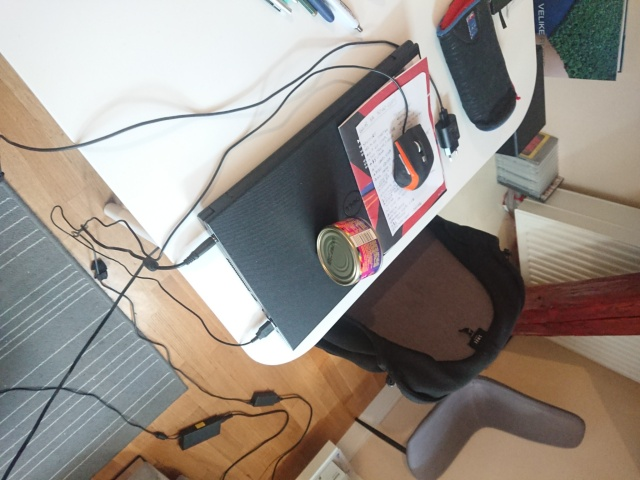Giana Tuna Salad Mexico 185g: (314, 212, 385, 288)
